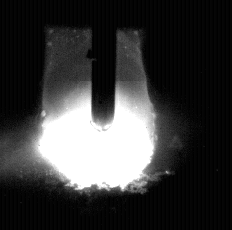arame: (92, 0, 116, 131)
poca: (41, 0, 154, 230)
